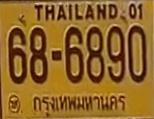0: (127, 25, 146, 82)
6: (7, 25, 29, 85), (64, 26, 83, 82)
8: (86, 26, 104, 82), (29, 26, 47, 82)
9: (106, 25, 124, 82)
BKK: (30, 92, 127, 119)
